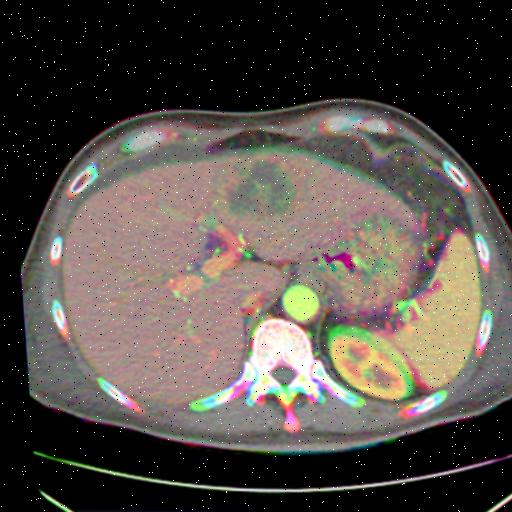Tumor: (225, 159, 292, 217)
